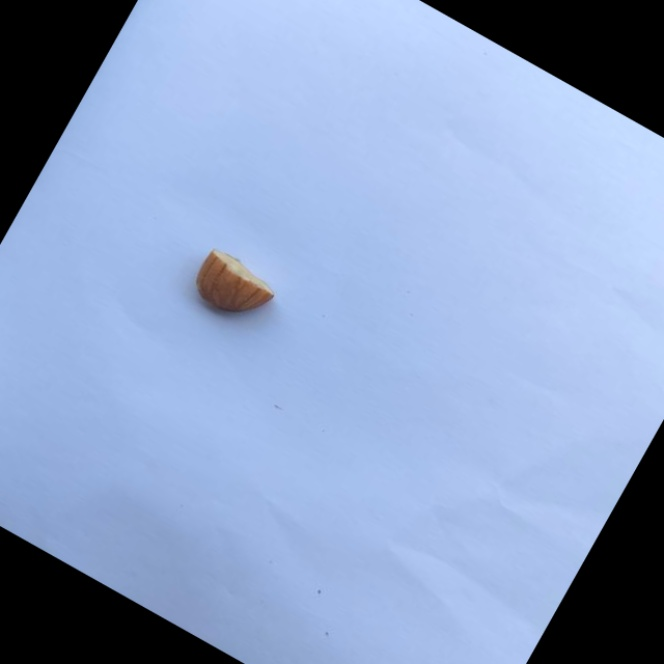grade4: (177, 238, 291, 341)
